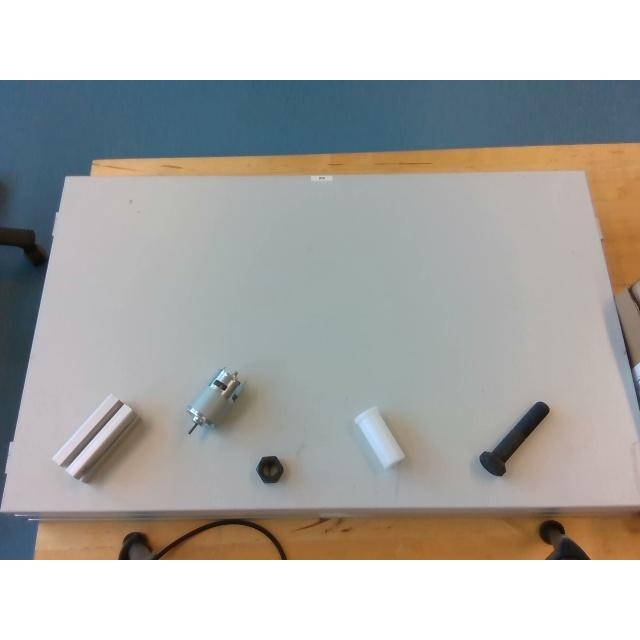M20: (256, 455, 284, 483)
M20_100: (479, 400, 549, 476)
Motor2: (185, 366, 242, 434)
S40_40_G: (52, 394, 138, 478)
Spacer: (354, 406, 404, 468)
